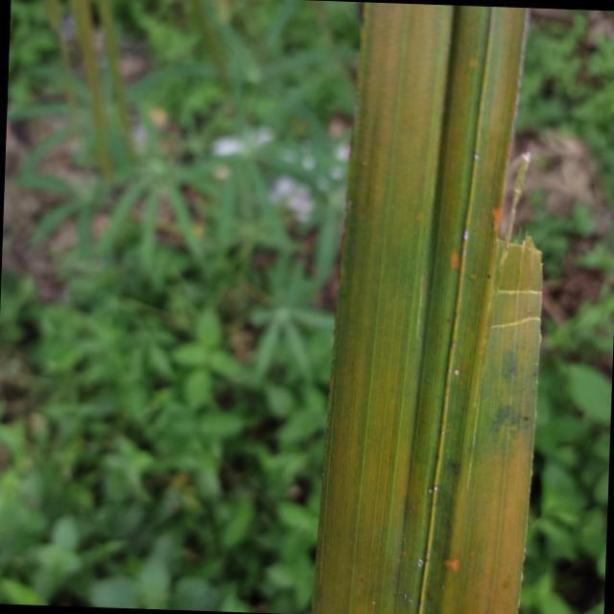Megnesium: (310, 0, 547, 614)
